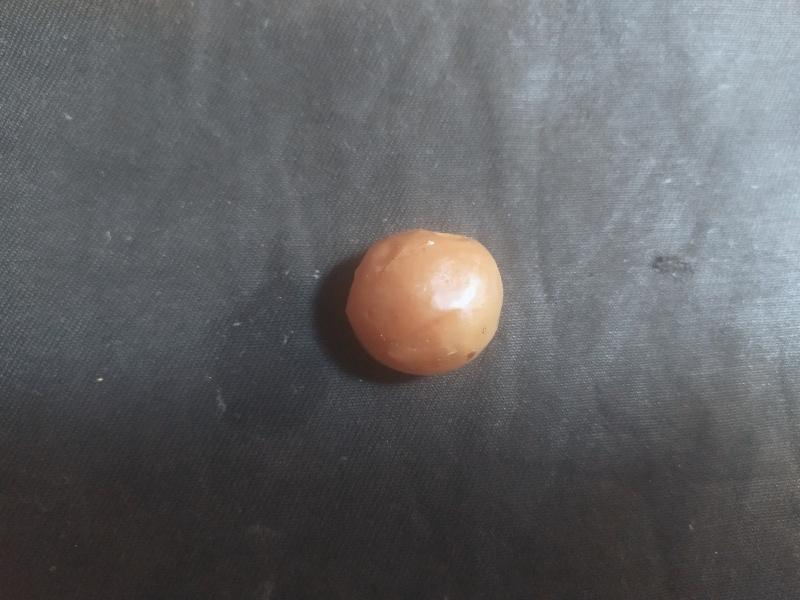Grape Rotten: (345, 226, 504, 378)
